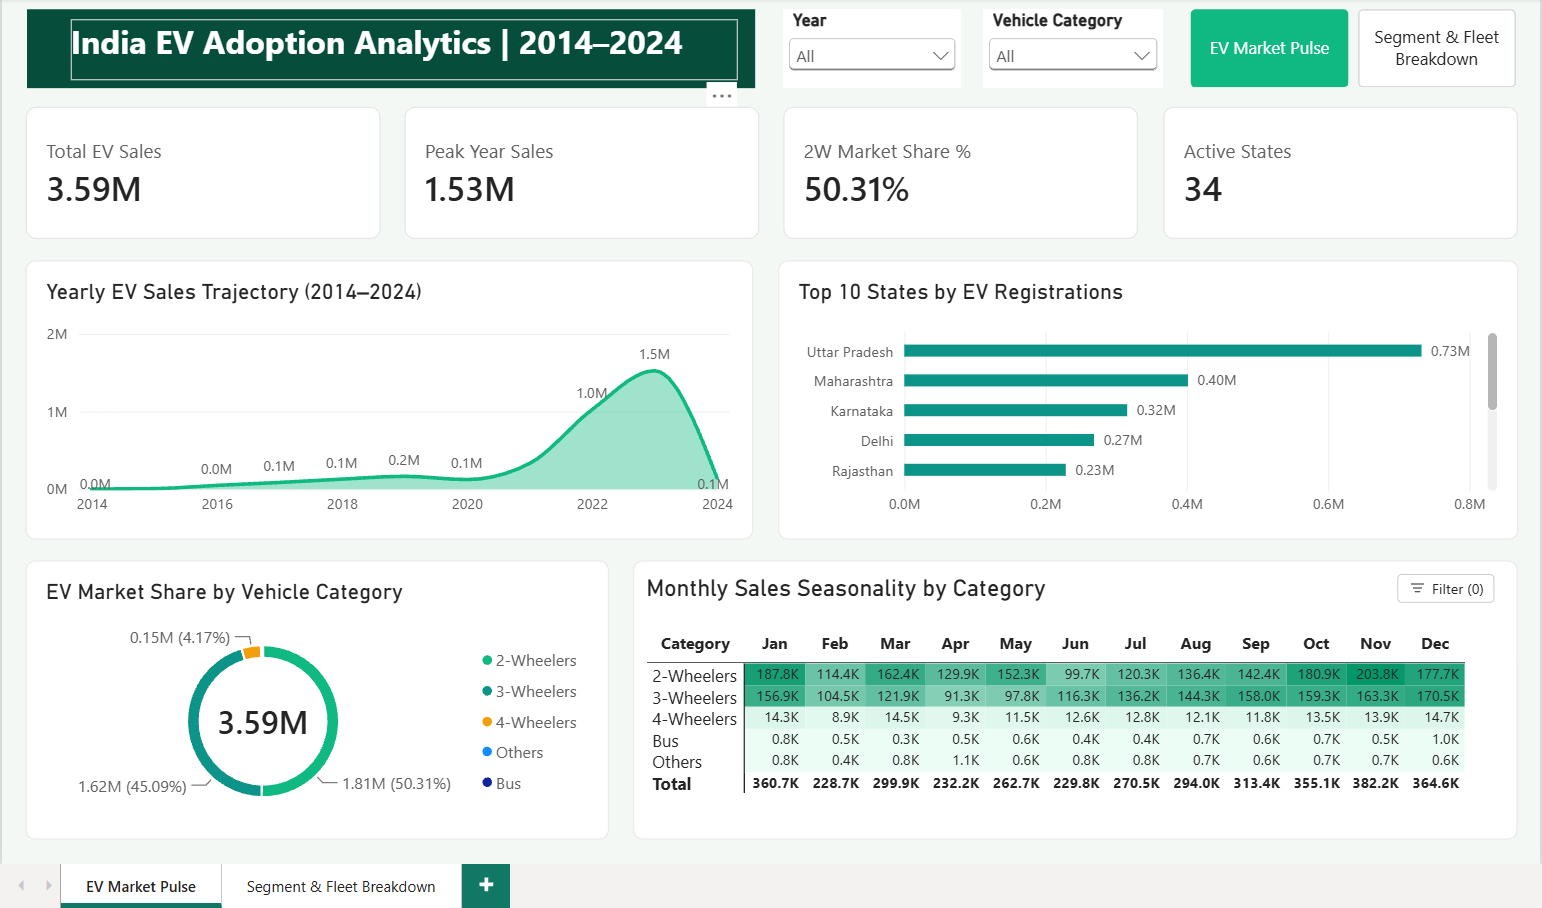

The page's visual inventory and layout, read from the dashboard file:
{"tool":"powerbi","page":{"name":"EV Market Pulse","canvas":[1280,720],"ordinal":0},"visuals":[{"type":"shape","box":[20.3,9.6,605.4,65.8],"z":0},{"type":"textbox","box":[57.4,17.9,555.2,50.3],"z":1000},{"type":"slicer","fields":{"Values":["Calendar.Date.Variation.Date Hierarchy.Year"]},"box":[649.7,9.6,148.4,65.8],"z":2000},{"type":"slicer","fields":{"Values":["EV_Dataset.Vehicle_Category"]},"box":[816,9.6,149.6,65.8],"z":3000},{"type":"cardVisual","fields":{"Data":["_Measures.Total EV Sales"]},"box":[20,90,295,110],"z":4000},{"type":"cardVisual","fields":{"Data":["_Measures.Peak Year Sales"]},"box":[335,90,295,110],"z":5000},{"type":"cardVisual","fields":{"Data":["_Measures.2W Market Share %"]},"box":[650,90,295,110],"z":6000},{"type":"cardVisual","fields":{"Data":["_Measures.Active States"]},"box":[965,90,295,110],"z":7000},{"type":"areaChart","title":"Yearly EV Sales Trajectory (2014–2024)","fields":{"Category":["Calendar.Year"],"Y":["_Measures.Total EV Sales"]},"box":[20,218,605,232],"z":8000},{"type":"clusteredBarChart","title":"Top 10 States by EV Registrations","fields":{"Category":["EV_Dataset.State"],"Y":["_Measures.Total EV Sales"]},"box":[645,218,615,232.1],"z":9000},{"type":"donutChart","title":"EV Market Share by Vehicle Category","fields":{"Category":["EV_Dataset.Vehicle_Category"],"Y":["_Measures.Total EV Sales"]},"box":[20,468,485,232],"z":10000},{"type":"pivotTable","title":"Monthly Sales Seasonality by Category","fields":{"Columns":["Calendar.Month Name"],"Rows":["EV_Dataset.Vehicle_Category"],"Values":["_Measures.Total EV Sales"]},"box":[525,468,735,232],"z":11000},{"type":"pageNavigator","box":[988.2,9.7,271.4,65.7],"z":12000}]}

Visuals, with their boxes on the page's 1280x720 design canvas (x1, y1, x2, y2). These are canvas units, not pixel positions in the 1542x908 screenshot, which may show the page scaled, cropped or inside an application window:
shape: [left=20, top=10, right=626, bottom=75]
textbox: [left=57, top=18, right=613, bottom=68]
slicer - Calendar.Date.Variation.Date Hierarchy.Year: [left=650, top=10, right=798, bottom=75]
slicer - EV_Dataset.Vehicle_Category: [left=816, top=10, right=966, bottom=75]
cardVisual - _Measures.Total EV Sales: [left=20, top=90, right=315, bottom=200]
cardVisual - _Measures.Peak Year Sales: [left=335, top=90, right=630, bottom=200]
cardVisual - _Measures.2W Market Share %: [left=650, top=90, right=945, bottom=200]
cardVisual - _Measures.Active States: [left=965, top=90, right=1260, bottom=200]
"Yearly EV Sales Trajectory (2014–2024)" areaChart: [left=20, top=218, right=625, bottom=450]
"Top 10 States by EV Registrations" clusteredBarChart: [left=645, top=218, right=1260, bottom=450]
"EV Market Share by Vehicle Category" donutChart: [left=20, top=468, right=505, bottom=700]
"Monthly Sales Seasonality by Category" pivotTable: [left=525, top=468, right=1260, bottom=700]
pageNavigator: [left=988, top=10, right=1260, bottom=75]
